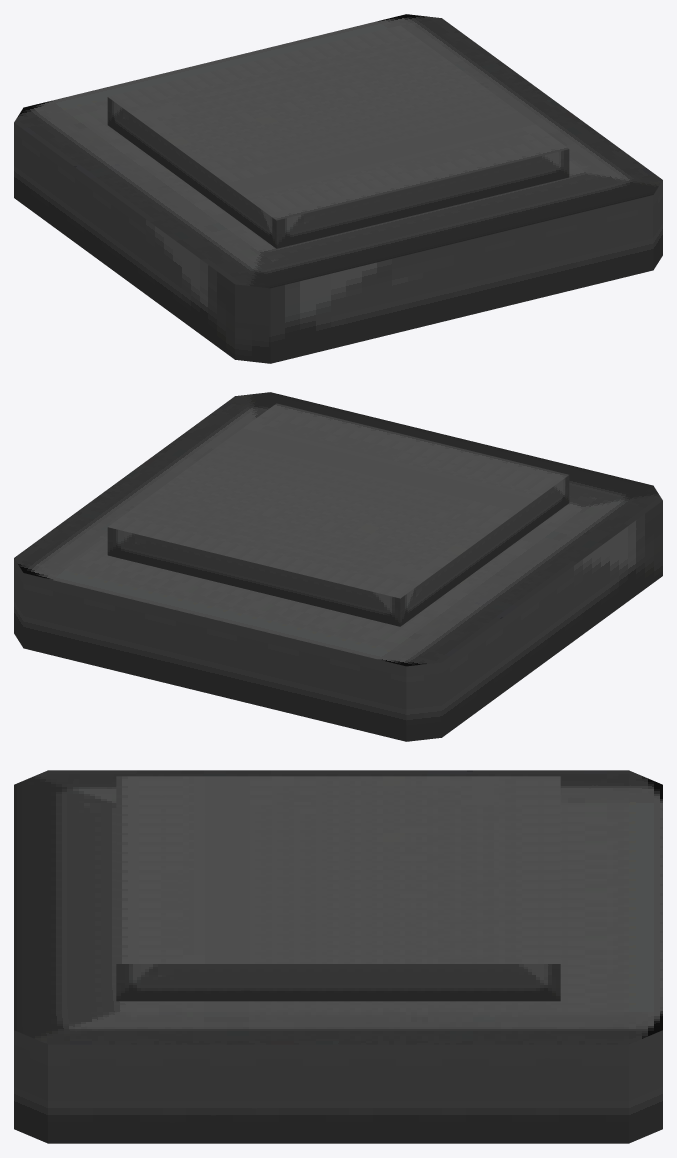
Rendered from Building_Turret_Sniper.glb.
The picture shows the model from 3 angles, top to bottom: view 1: azimuth 30°, elevation 25°; view 2: azimuth 150°, elevation 25°; view 3: azimuth 270°, elevation 25°; orthographic projection. The views are drawn at different scales.
Visible parts, largest first — view 1: Turret_Sniper; view 2: Turret_Sniper; view 3: Turret_Sniper.
Part boxes in pixels (x1=…): Turret_Sniper: x1=14, y1=14, x2=662, y2=363; Turret_Sniper: x1=14, y1=392, x2=662, y2=741; Turret_Sniper: x1=14, y1=770, x2=662, y2=1143.
Bounding box in the file's own units: 1.9 × 0.44 × 1.9.
1 material, 1 textured.
